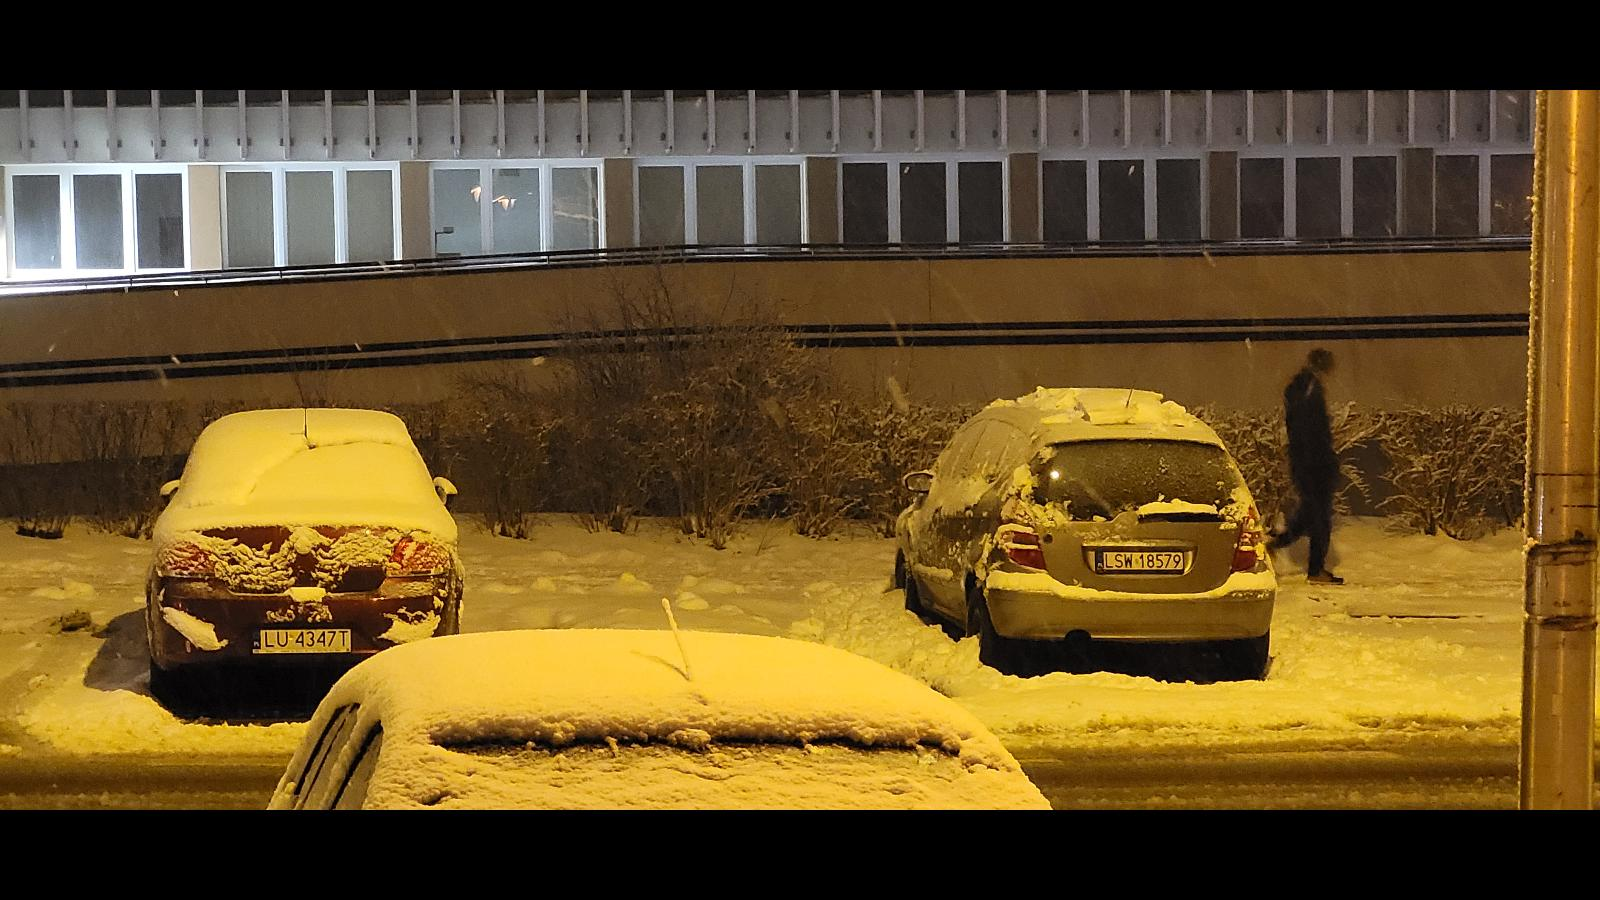plates: (250, 629, 352, 655), (1094, 551, 1184, 575)
